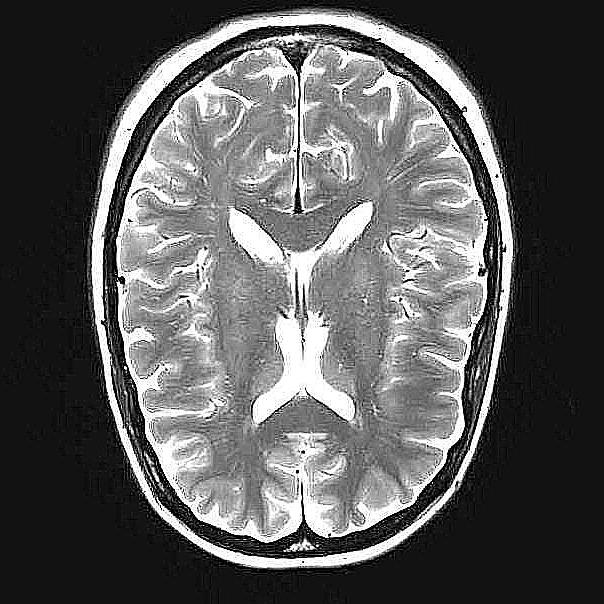Normal_Brain: (1, 1, 604, 604)
